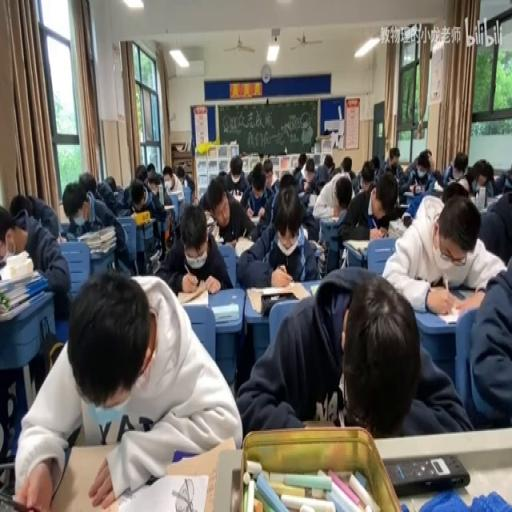calculator: (4, 448, 70, 512), (114, 469, 209, 512), (246, 280, 310, 312), (177, 286, 208, 306), (212, 302, 238, 322), (437, 307, 466, 324), (234, 235, 256, 256), (345, 239, 370, 253), (453, 284, 475, 298), (486, 194, 504, 210), (148, 248, 160, 270), (307, 239, 324, 252), (247, 213, 262, 225), (205, 212, 215, 229), (322, 214, 338, 224), (307, 194, 318, 208), (402, 189, 416, 199), (157, 183, 163, 205), (55, 233, 67, 243), (309, 283, 318, 296), (298, 188, 308, 199), (230, 144, 238, 155), (215, 235, 224, 243), (164, 204, 174, 210)
paper: (18, 266, 238, 509), (234, 263, 468, 434), (382, 192, 504, 314), (2, 195, 68, 323), (236, 186, 320, 286), (62, 176, 133, 278), (155, 202, 229, 294), (337, 169, 400, 246), (126, 176, 167, 264), (400, 148, 436, 196), (224, 154, 249, 198), (295, 155, 318, 195), (483, 162, 509, 196), (314, 154, 337, 192), (414, 188, 442, 218), (174, 164, 196, 200), (382, 145, 404, 181), (78, 171, 98, 202), (440, 181, 469, 202), (9, 193, 30, 222), (261, 158, 278, 190), (278, 171, 296, 192), (360, 164, 375, 189), (346, 225, 370, 240), (336, 188, 350, 212), (472, 159, 488, 179), (134, 163, 148, 185), (388, 205, 405, 223), (454, 158, 467, 179), (431, 166, 444, 185), (443, 164, 454, 184), (104, 174, 117, 190), (216, 170, 229, 186), (370, 154, 379, 174), (341, 155, 351, 172), (146, 160, 155, 178), (162, 174, 172, 189), (425, 149, 432, 162), (258, 151, 266, 162), (508, 166, 512, 184), (329, 162, 334, 174)
person: (386, 452, 470, 495), (402, 213, 411, 226)
